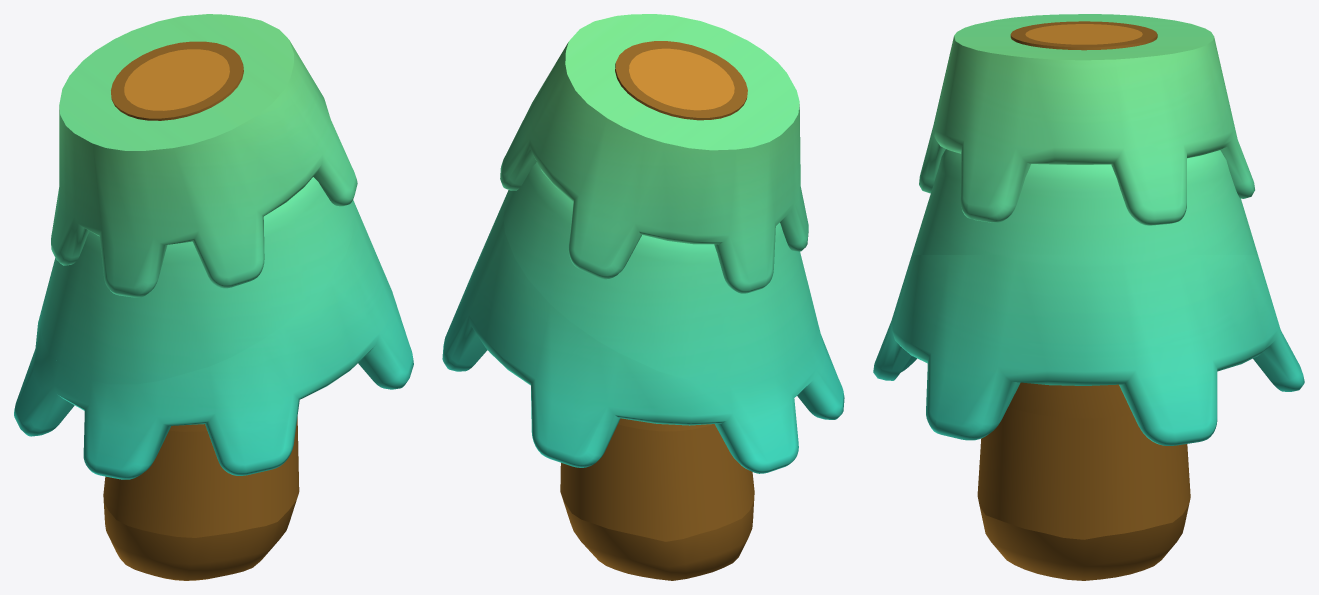
File: tree3 60%.fbx
3 renders of one model, left to right at view 1: azimuth 30°, elevation 25°; view 2: azimuth 150°, elevation 25°; view 3: azimuth 270°, elevation 25°, orthographic. The views are drawn at different scales.
Parts seen in each view (by area): view 1: Cylinder.028; view 2: Cylinder.028; view 3: Cylinder.028.
Part boxes in pixels (box(x1,y1,x2,y2)): Cylinder.028: box(14, 14, 413, 580); Cylinder.028: box(442, 14, 844, 580); Cylinder.028: box(873, 14, 1304, 580).
Size of the model in its own units: 81.72 by 119 by 85.92.
